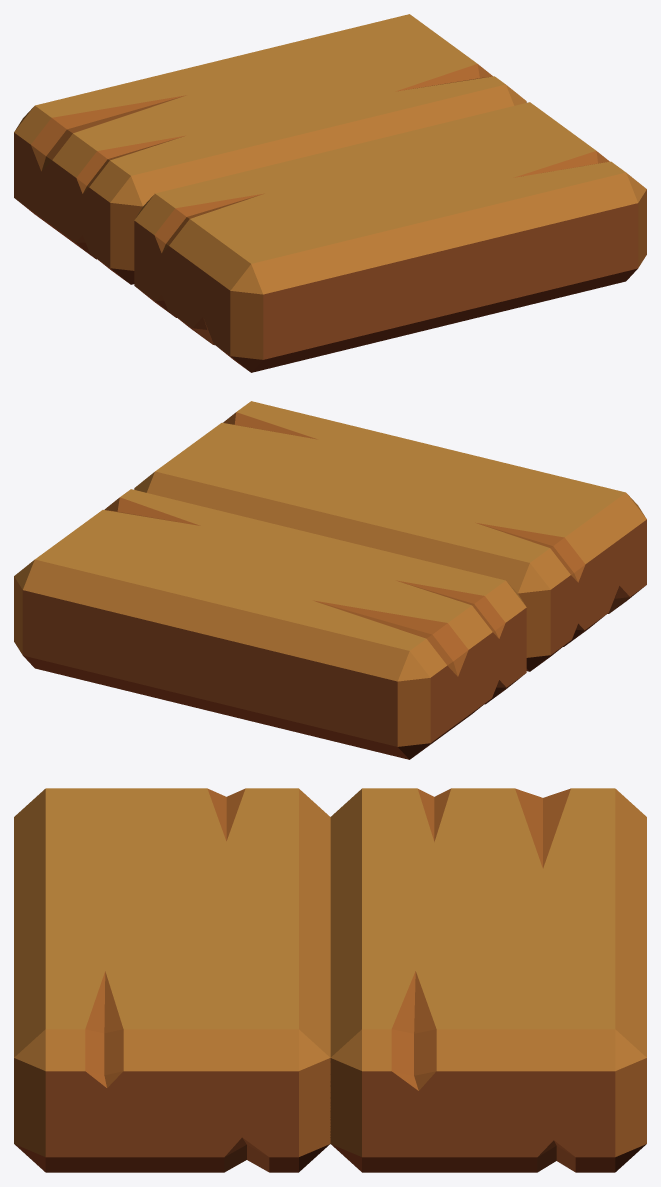
The model's file is m_kub_wood_flatTwoBrick.FBX.
The picture shows the model from 3 angles, top to bottom: view 1: azimuth 30°, elevation 25°; view 2: azimuth 150°, elevation 25°; view 3: azimuth 270°, elevation 25°; orthographic projection. The views are drawn at different scales.
Visible parts, largest first — view 1: m_kub_wood_flatTwoBrick; view 2: m_kub_wood_flatTwoBrick; view 3: m_kub_wood_flatTwoBrick.
Boxes of the visible parts, box(x1,y1,x2,y2) form: m_kub_wood_flatTwoBrick: box(14, 14, 646, 372); m_kub_wood_flatTwoBrick: box(14, 401, 646, 759); m_kub_wood_flatTwoBrick: box(14, 788, 646, 1172).
Size of the model in its own units: 2 by 0.5 by 2.
